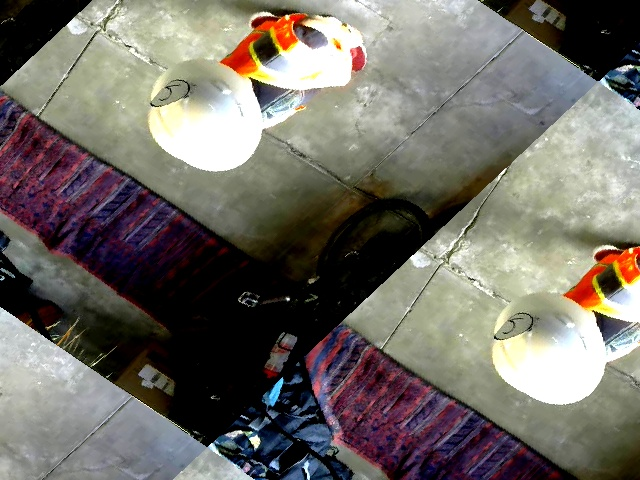two: (144, 73, 194, 115)
